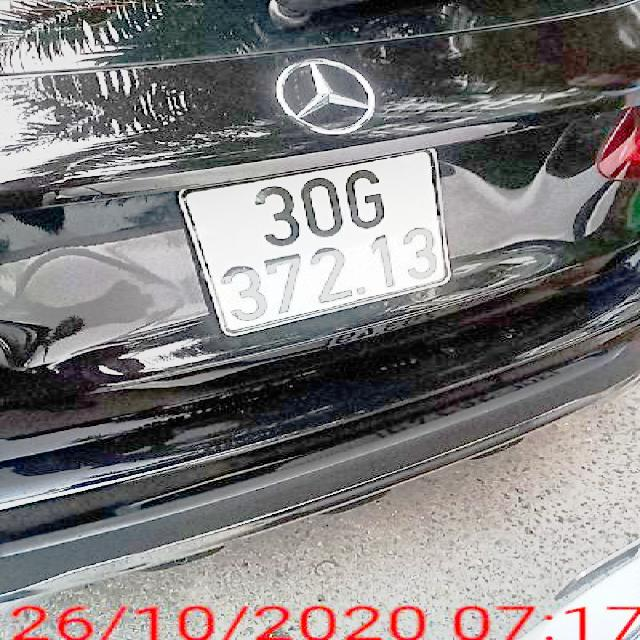license_plate: (184, 152, 446, 335)
